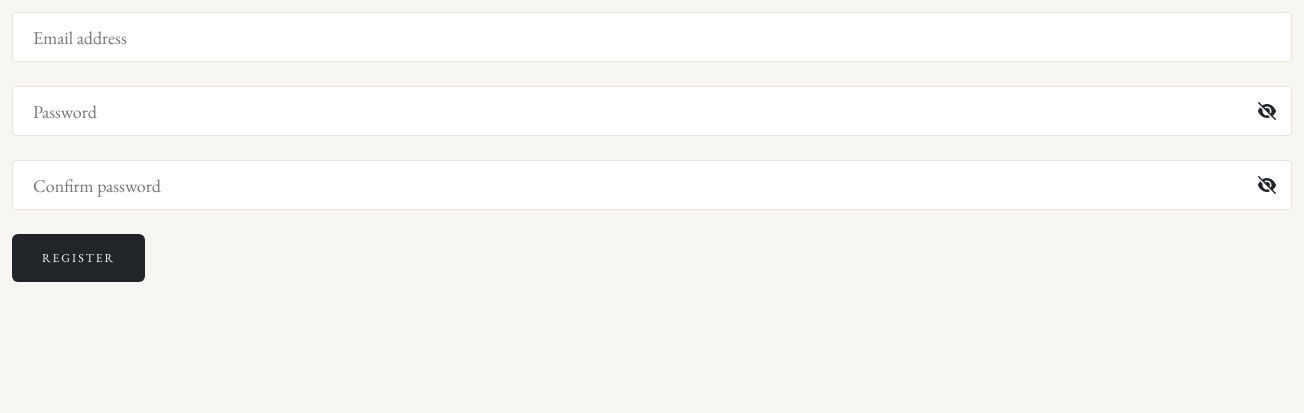
Test: RegisterForm component › shows error message for invalid email
In the field labelled "Email address": (652, 37) [12,12,1292,62], type "invalid-email"
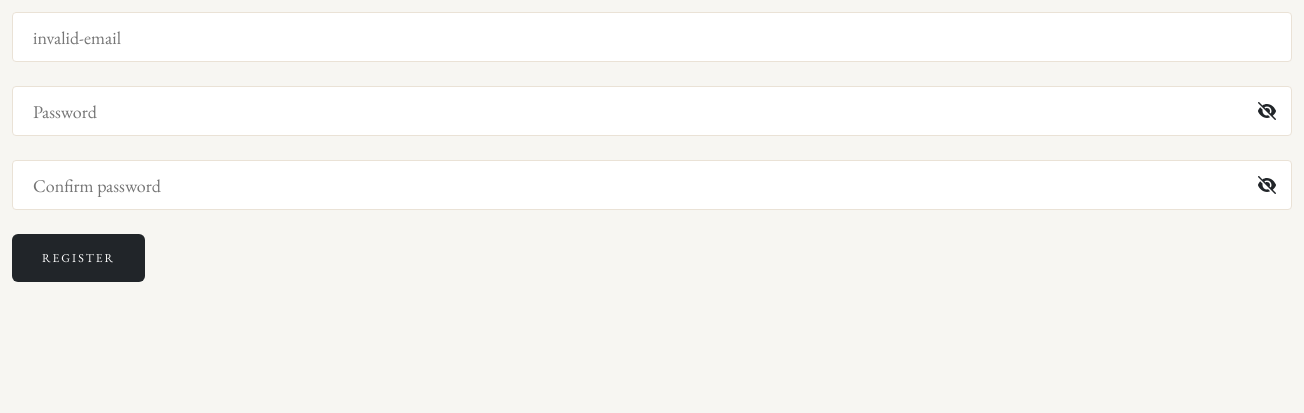
Click the button "Register": (79, 258) [12,234,145,282]
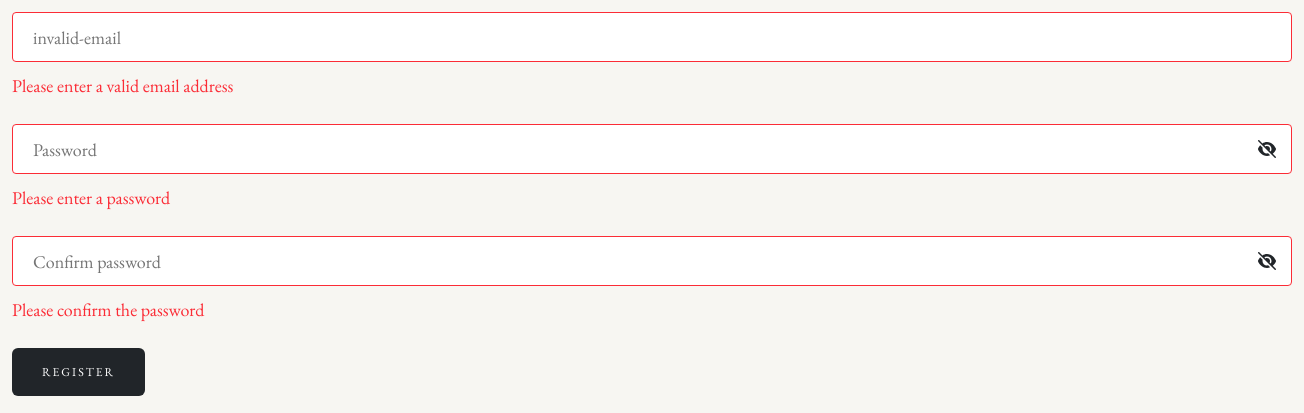
Expected: the text "Please enter a valid email address" is shown, [12,74,233,97]
